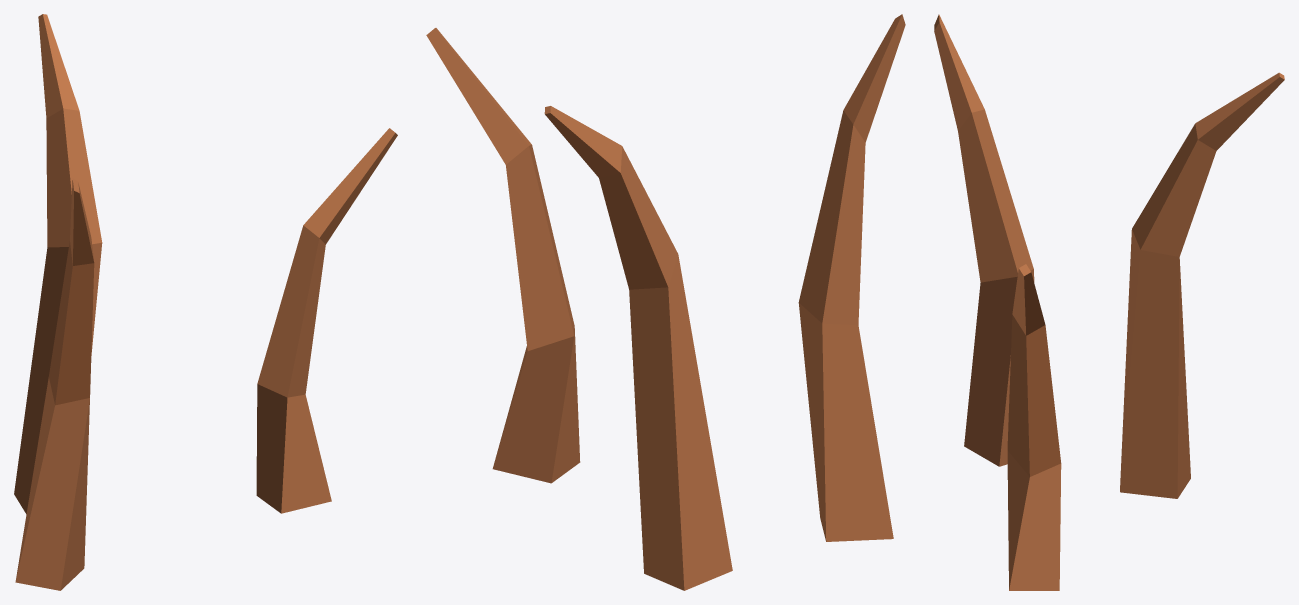
Rendered from GrassAutumn1_Alt3.fbx.
3 renders of one model, left to right at view 1: azimuth 30°, elevation 25°; view 2: azimuth 150°, elevation 25°; view 3: azimuth 270°, elevation 25°, orthographic. The views are drawn at different scales.
Parts seen in each view (by area): view 1: GrassAutumn1_Alt3; view 2: GrassAutumn1_Alt3; view 3: GrassAutumn1_Alt3.
Boxes of the visible parts, box(x1,y1,x2,y2) form: GrassAutumn1_Alt3: box(14, 14, 397, 590); GrassAutumn1_Alt3: box(426, 14, 905, 590); GrassAutumn1_Alt3: box(934, 14, 1284, 590).
Bounding box in the file's own units: 0.3561 × 0.3746 × 0.2695.
